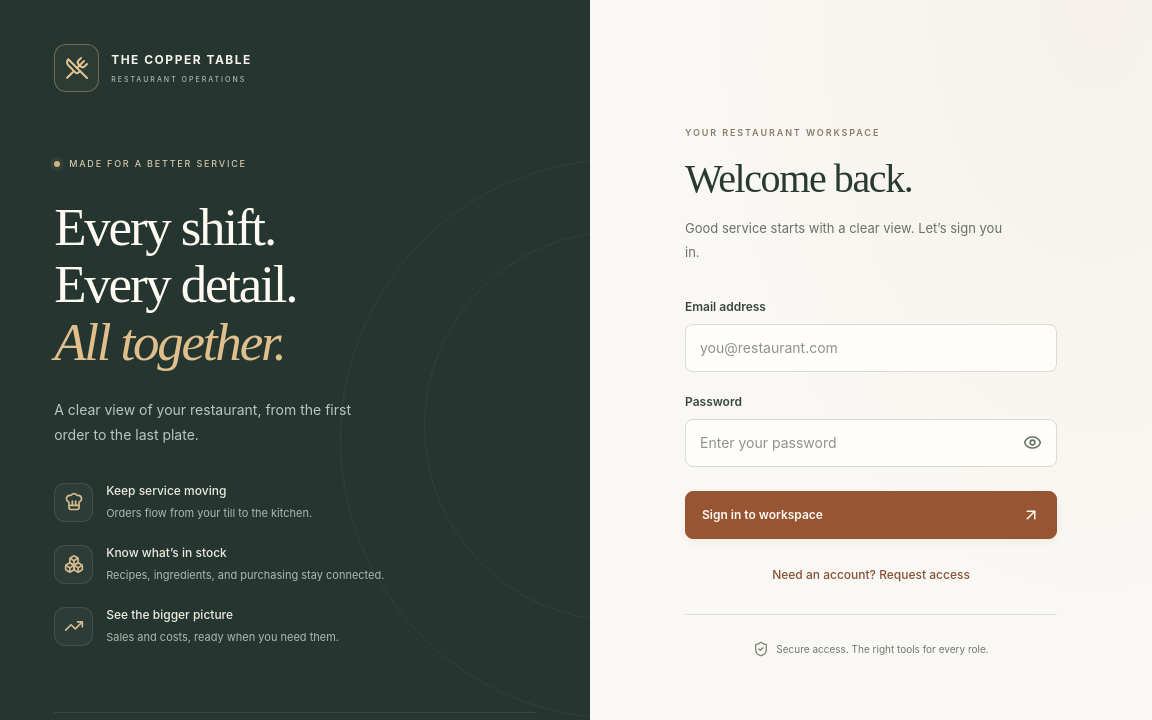
Test: authenticated restaurant workspace › validates sign-in fields before submitting credentials
This screenshot has width=1152, height=720.
Expected: the heading "Welcome back." is shown, [685, 156, 912, 201]
Click the button "Sign in to workspace".
click(762, 514)  # box [685, 491, 1057, 539]
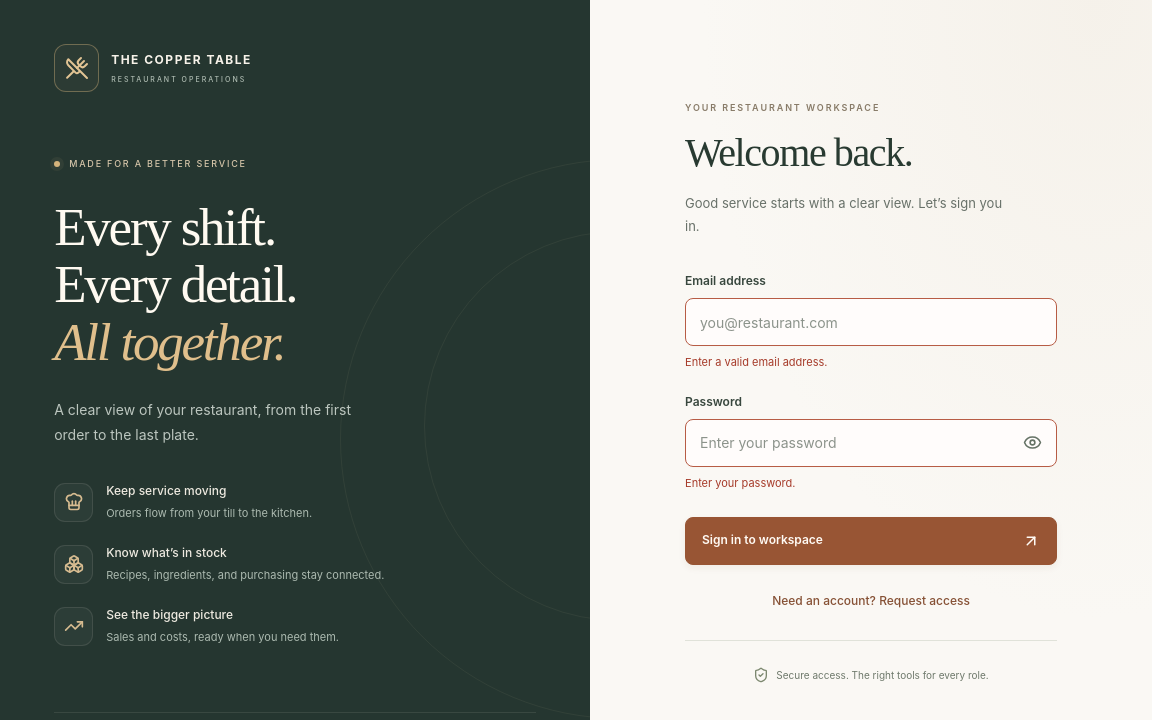
Expected: the text "Enter a valid email address." is shown, [685, 355, 827, 369]
Expected: the text "Enter your password." is shown, [685, 476, 796, 490]
